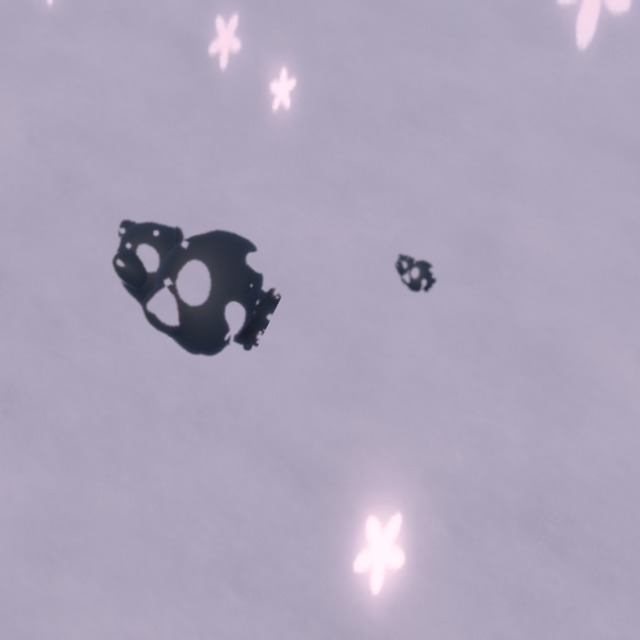urso_preto: (69, 169, 304, 384), (383, 242, 444, 300)
